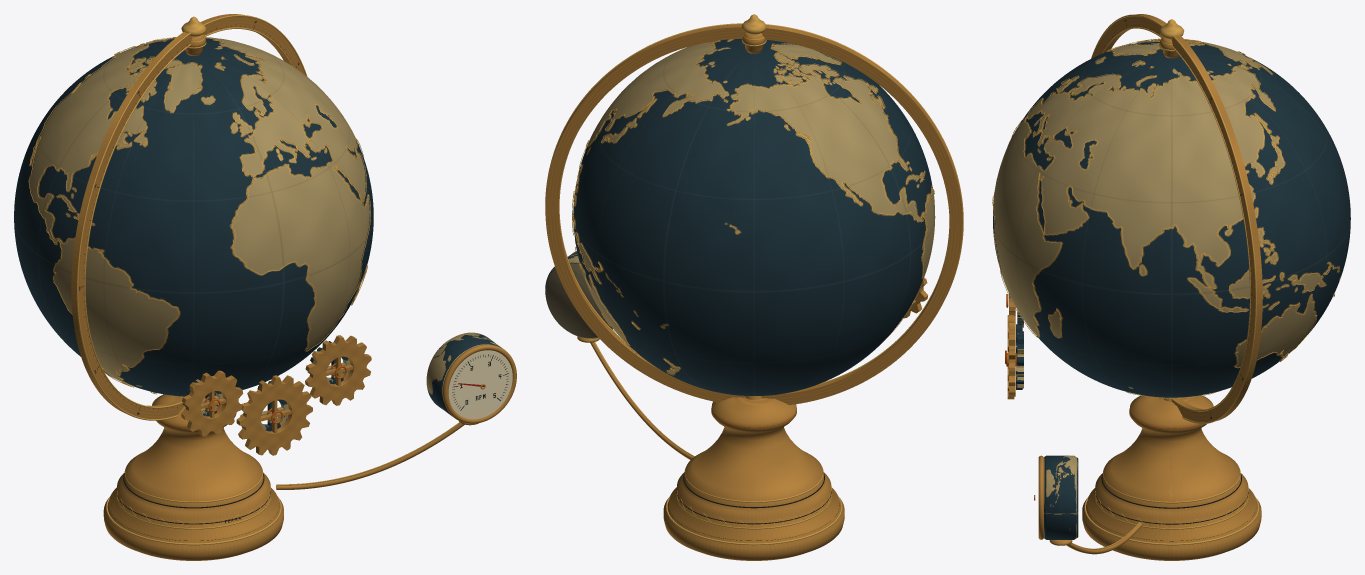
Rendered from MechanicalGlobe.fbx.
The picture shows the model from 3 angles, left to right: view 1: azimuth 30°, elevation 25°; view 2: azimuth 150°, elevation 25°; view 3: azimuth 270°, elevation 25°; orthographic projection.
Visible parts, largest first — view 1: Sphere_DarkMetalShell, Sphere_EngravedContinentSections_0, Pedestal_SteppedSculptedBrass, Sphere_EngravedContinentSections_7, Meridian_BroadGraduatedBrassBand, Gear_16T_ToothedWheel, RPMGauge_PrintedDial, Gear_14T_ToothedWheel, Gear_12T_ToothedWheel, Sphere_RaisedCoastlineInlay_00, RPMGauge_DarkHousing, Sphere_RaisedCoastlineInlay_03 (+5 smaller); view 2: Sphere_DarkMetalShell, Pedestal_SteppedSculptedBrass, Meridian_BroadGraduatedBrassBand, Sphere_EngravedContinentSections_7, Sphere_EngravedContinentSections_0, RPMGauge_DarkHousing, Sphere_RaisedCoastlineInlay_03, Meridian_PolishedEdge_Outer, Sphere_EngravedContinentSections_6, Sphere_RaisedCoastlineInlay_00, Sphere_EngravedContinentSections_5, Pedestal_GaugeSupportArch (+2 smaller); view 3: Sphere_DarkMetalShell, Sphere_EngravedContinentSections_0, Pedestal_SteppedSculptedBrass, Meridian_BroadGraduatedBrassBand, RPMGauge_DarkHousing, Sphere_RaisedCoastlineInlay_00, Sphere_EngravedContinentSections_5, Meridian_PolishedEdge_Outer, Sphere_RaisedCoastlineInlay_03, Sphere_EngravedContinentSections_7, Meridian_PolishedEdge_Inner, Sphere_EngravedContinentSections_6 (+5 smaller).
Boxes of the visible parts, x1,y1,x2,y2 form: Sphere_DarkMetalShell: (14,40,373,396); Sphere_EngravedContinentSections_0: (72,37,369,386); Pedestal_SteppedSculptedBrass: (103,394,283,560); Sphere_EngravedContinentSections_7: (29,44,178,393); Meridian_BroadGraduatedBrassBand: (71,14,305,418); Gear_16T_ToothedWheel: (236,375,312,455); RPMGauge_PrintedDial: (448,350,512,419); Gear_14T_ToothedWheel: (305,335,371,405); Gear_12T_ToothedWheel: (181,370,243,436); Sphere_RaisedCoastlineInlay_00: (74,37,370,387); RPMGauge_DarkHousing: (426,332,502,416); Sphere_RaisedCoastlineInlay_03: (28,39,327,394); Sphere_DarkMetalShell: (573,40,932,395); Pedestal_SteppedSculptedBrass: (663,397,844,560); Meridian_BroadGraduatedBrassBand: (545,24,962,404); Sphere_EngravedContinentSections_7: (573,69,935,328); Sphere_EngravedContinentSections_0: (574,39,907,325); RPMGauge_DarkHousing: (545,251,612,338); Sphere_RaisedCoastlineInlay_03: (572,63,934,354); Meridian_PolishedEdge_Outer: (545,23,963,292); Sphere_EngravedContinentSections_6: (575,44,923,329); Sphere_RaisedCoastlineInlay_00: (573,40,830,375); Sphere_EngravedContinentSections_5: (580,53,932,371); Pedestal_GaugeSupportArch: (590,342,693,459); Sphere_DarkMetalShell: (993,40,1350,397); Sphere_EngravedContinentSections_0: (993,41,1338,336); Pedestal_SteppedSculptedBrass: (1082,395,1261,560); Meridian_BroadGraduatedBrassBand: (1093,14,1262,422); RPMGauge_DarkHousing: (1044,455,1078,539); Sphere_RaisedCoastlineInlay_00: (992,38,1284,338); Sphere_EngravedContinentSections_5: (1033,40,1338,367); Meridian_PolishedEdge_Outer: (1091,14,1256,423); Sphere_RaisedCoastlineInlay_03: (1046,39,1287,398); Sphere_EngravedContinentSections_7: (1162,40,1284,397); Meridian_PolishedEdge_Inner: (1102,27,1250,411); Sphere_EngravedContinentSections_6: (1034,44,1339,296).
Bounding box in the file's own units: 1.84 × 2.13 × 1.36.
